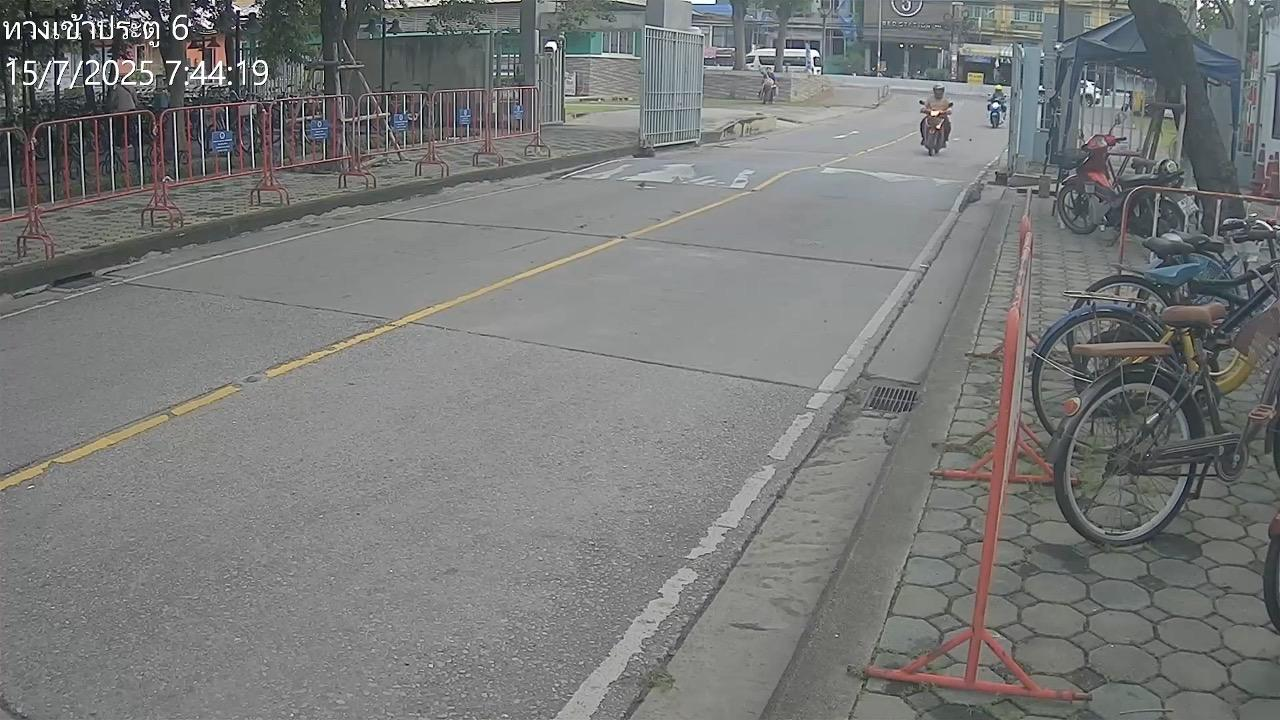With-Helmet: (933, 83, 946, 97)
